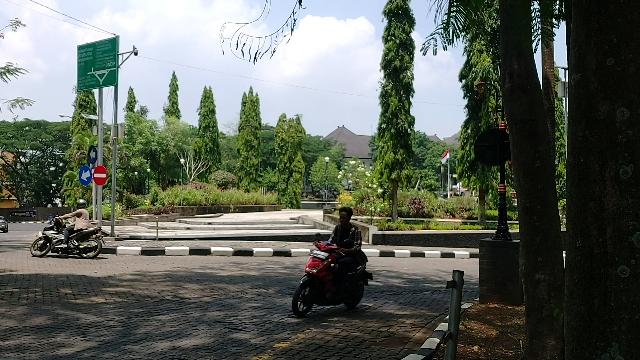helm: (76, 200, 88, 210)
motor: (292, 242, 372, 319), (32, 221, 105, 260)
non-helm: (340, 208, 354, 226)
